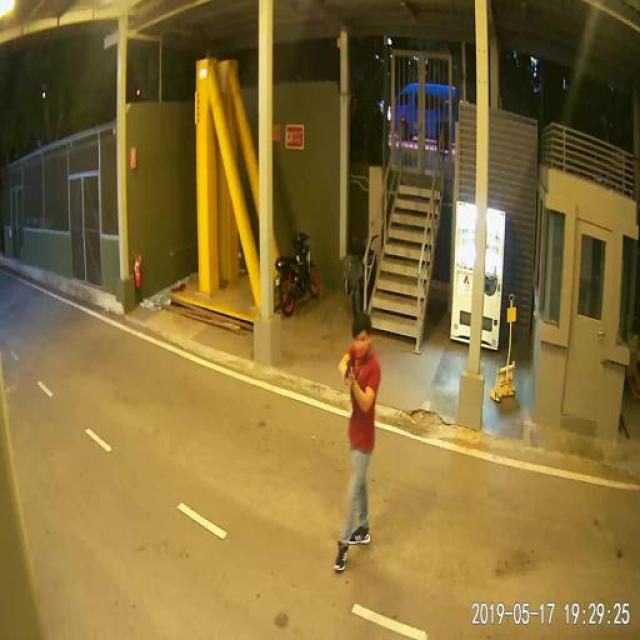Gun: (332, 354, 360, 394)
